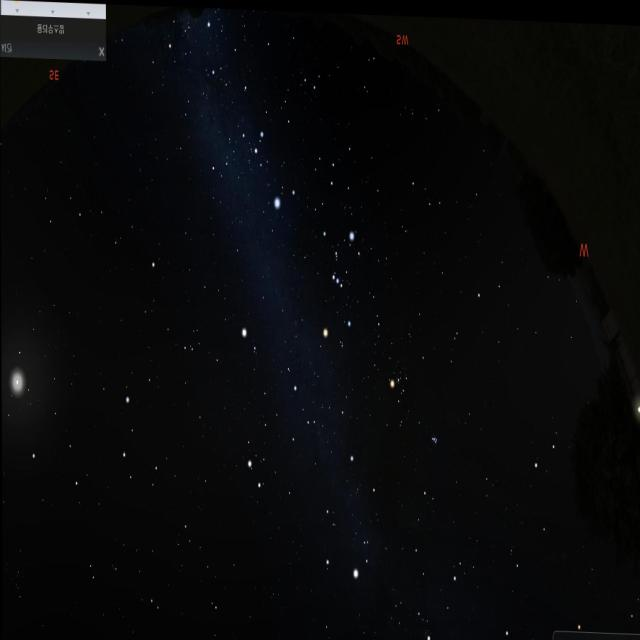canis_major: (246, 112, 303, 215)
canis_minor: (238, 313, 260, 368)
gemini: (245, 378, 312, 492)
leo: (24, 379, 168, 516)
moon: (3, 348, 39, 404)
orion: (311, 217, 369, 341)
pleiades: (425, 418, 441, 455)
taurus: (381, 335, 456, 474)
